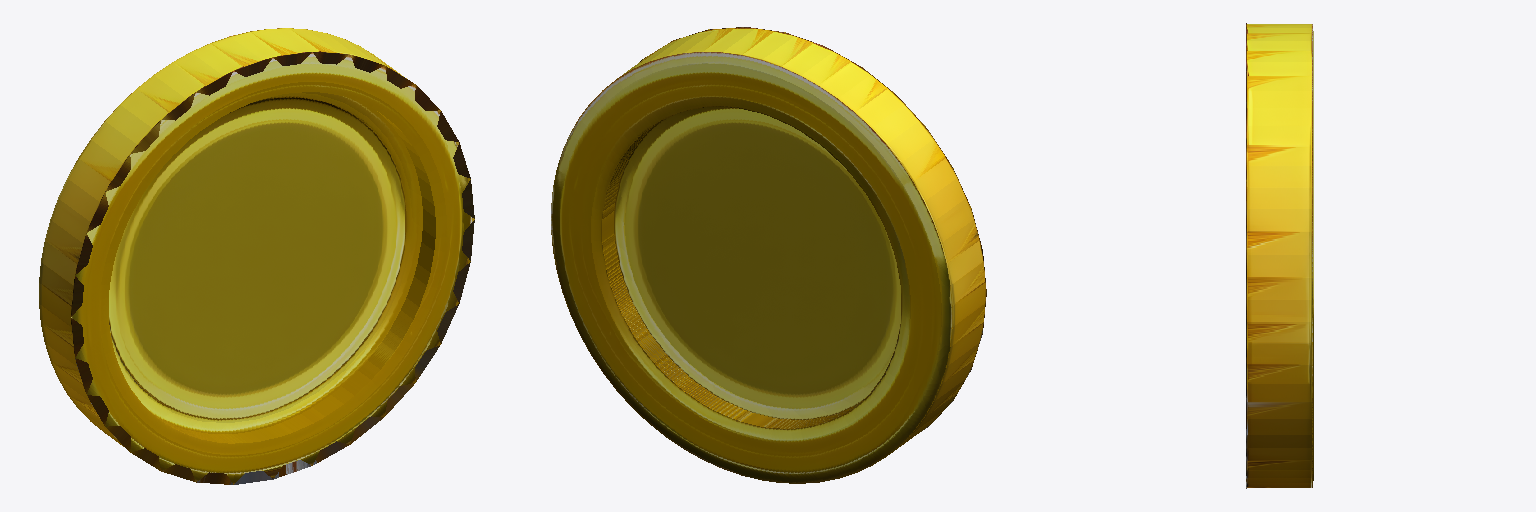
The picture shows the model from 3 angles: view 1: azimuth 30°, elevation 25°; view 2: azimuth 150°, elevation 25°; view 3: azimuth 270°, elevation 25°; orthographic projection.
Parts seen in each view (by area): view 1: Cylindre; view 2: Cylindre; view 3: Cylindre.
Part boxes in pixels (x1,y1,x2,y2): Cylindre: (39, 28, 474, 484); Cylindre: (551, 27, 986, 483); Cylindre: (1246, 23, 1313, 488).
Size of the model in its own units: 1.65 by 1.65 by 0.2415.
1 materials, 1 textured.